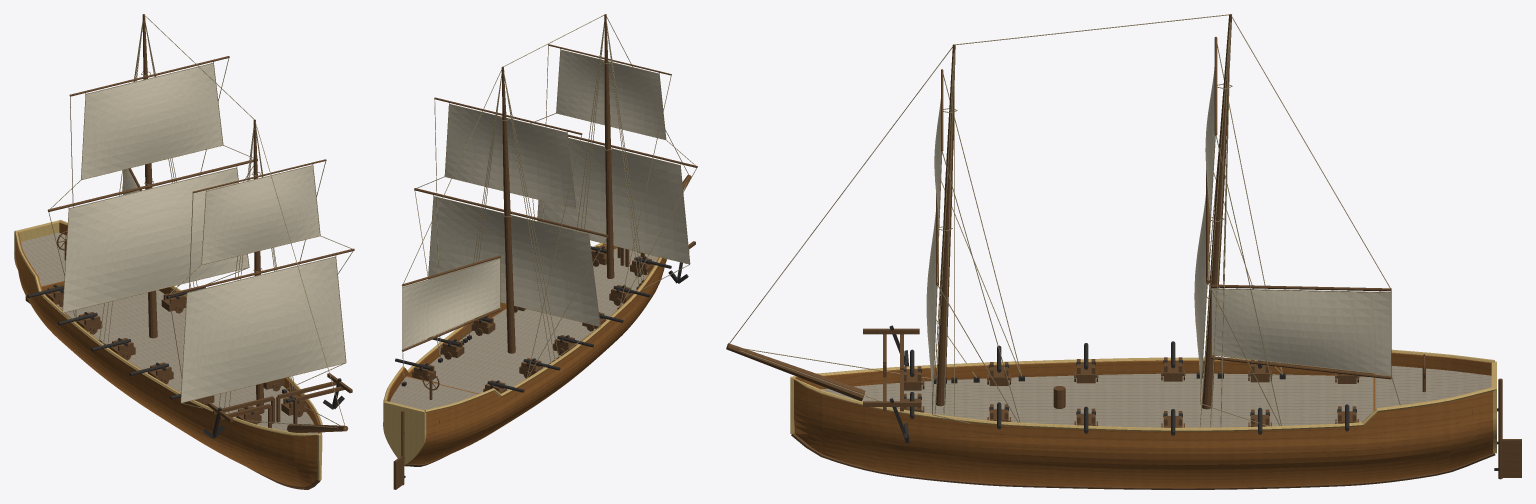
3 views of the same model, side by side, from view 1: azimuth 30°, elevation 25°; view 2: azimuth 150°, elevation 25°; view 3: azimuth 270°, elevation 25° (orthographic). The views are drawn at different scales.
Visible parts, largest first — view 1: lod1_fore_square_00, lod1_main_square_00, lod1_main_square_01, lod1_hull_shell_starboard, lod1_fore_square_01, lod1_main_deck, lod1_castle_deck_0, lod1_gunwale_starboard, lod1_main, lod1_main_square_00_yard, lod1_stern_closure, lod1_fore_square_00_yard (+5 smaller); view 2: lod1_main_square_00, lod1_fore_square_00, lod1_main_square_01, lod1_main_deck, lod1_hull_shell_starboard, lod1_fore_square_01, lod1_main_gaff_02, lod1_stern_closure, lod1_main, lod1_fore, lod1_castle_deck_0, lod1_gunwale_starboard (+8 smaller); view 3: lod1_hull_shell_port, lod1_main_deck, lod1_main_gaff_02, lod1_hull_shell_starboard, lod1_castle_deck_0, lod1_gunwale_port, lod1_main, lod1_fore, lod1_keel, lod1_gunwale_starboard, lod1_bowsprit, lod1_main_square_00 (+2 smaller).
Part boxes in pixels (x1=…): lod1_fore_square_00: x1=181, y1=257, x2=345, y2=402; lod1_main_square_00: x1=63, y1=168, x2=248, y2=312; lod1_main_square_01: x1=81, y1=63, x2=222, y2=179; lod1_hull_shell_starboard: x1=16, y1=232, x2=317, y2=486; lod1_fore_square_01: x1=202, y1=165, x2=319, y2=264; lod1_main_deck: x1=56, y1=290, x2=317, y2=433; lod1_castle_deck_0: x1=21, y1=232, x2=66, y2=286; lod1_gunwale_starboard: x1=14, y1=230, x2=317, y2=436; lod1_main: x1=142, y1=14, x2=157, y2=338; lod1_main_square_00_yard: x1=47, y1=159, x2=257, y2=211; lod1_stern_closure: x1=14, y1=220, x2=59, y2=269; lod1_fore_square_00_yard: x1=168, y1=248, x2=354, y2=295; lod1_main_square_00: x1=428, y1=197, x2=599, y2=326; lod1_fore_square_00: x1=537, y1=138, x2=689, y2=263; lod1_main_square_01: x1=445, y1=104, x2=575, y2=208; lod1_main_deck: x1=430, y1=248, x2=658, y2=393; lod1_hull_shell_starboard: x1=407, y1=257, x2=666, y2=464; lod1_fore_square_01: x1=556, y1=50, x2=665, y2=139; lod1_main_gaff_02: x1=403, y1=259, x2=499, y2=348; lod1_stern_closure: x1=383, y1=401, x2=426, y2=464; lod1_main: x1=501, y1=66, x2=515, y2=353; lod1_fore: x1=604, y1=14, x2=614, y2=278; lod1_castle_deck_0: x1=390, y1=376, x2=477, y2=410; lod1_gunwale_starboard: x1=424, y1=257, x2=661, y2=412; lod1_hull_shell_port: x1=794, y1=379, x2=1493, y2=487; lod1_main_deck: x1=821, y1=373, x2=1373, y2=427; lod1_main_gaff_02: x1=1212, y1=289, x2=1390, y2=374; lod1_hull_shell_starboard: x1=795, y1=352, x2=1491, y2=389; lod1_castle_deck_0: x1=1375, y1=366, x2=1491, y2=408; lod1_gunwale_port: x1=793, y1=378, x2=1494, y2=431; lod1_main: x1=1202, y1=14, x2=1231, y2=409; lod1_fore: x1=936, y1=44, x2=955, y2=406; lod1_keel: x1=791, y1=433, x2=1495, y2=489; lod1_gunwale_starboard: x1=793, y1=349, x2=1494, y2=376; lod1_bowsprit: x1=726, y1=343, x2=865, y2=401; lod1_main_square_00: x1=1194, y1=195, x2=1206, y2=393.
Size of the model in its own units: 9.88 by 17.21 by 26.09.
Materials: 7 (7 with a texture image).
